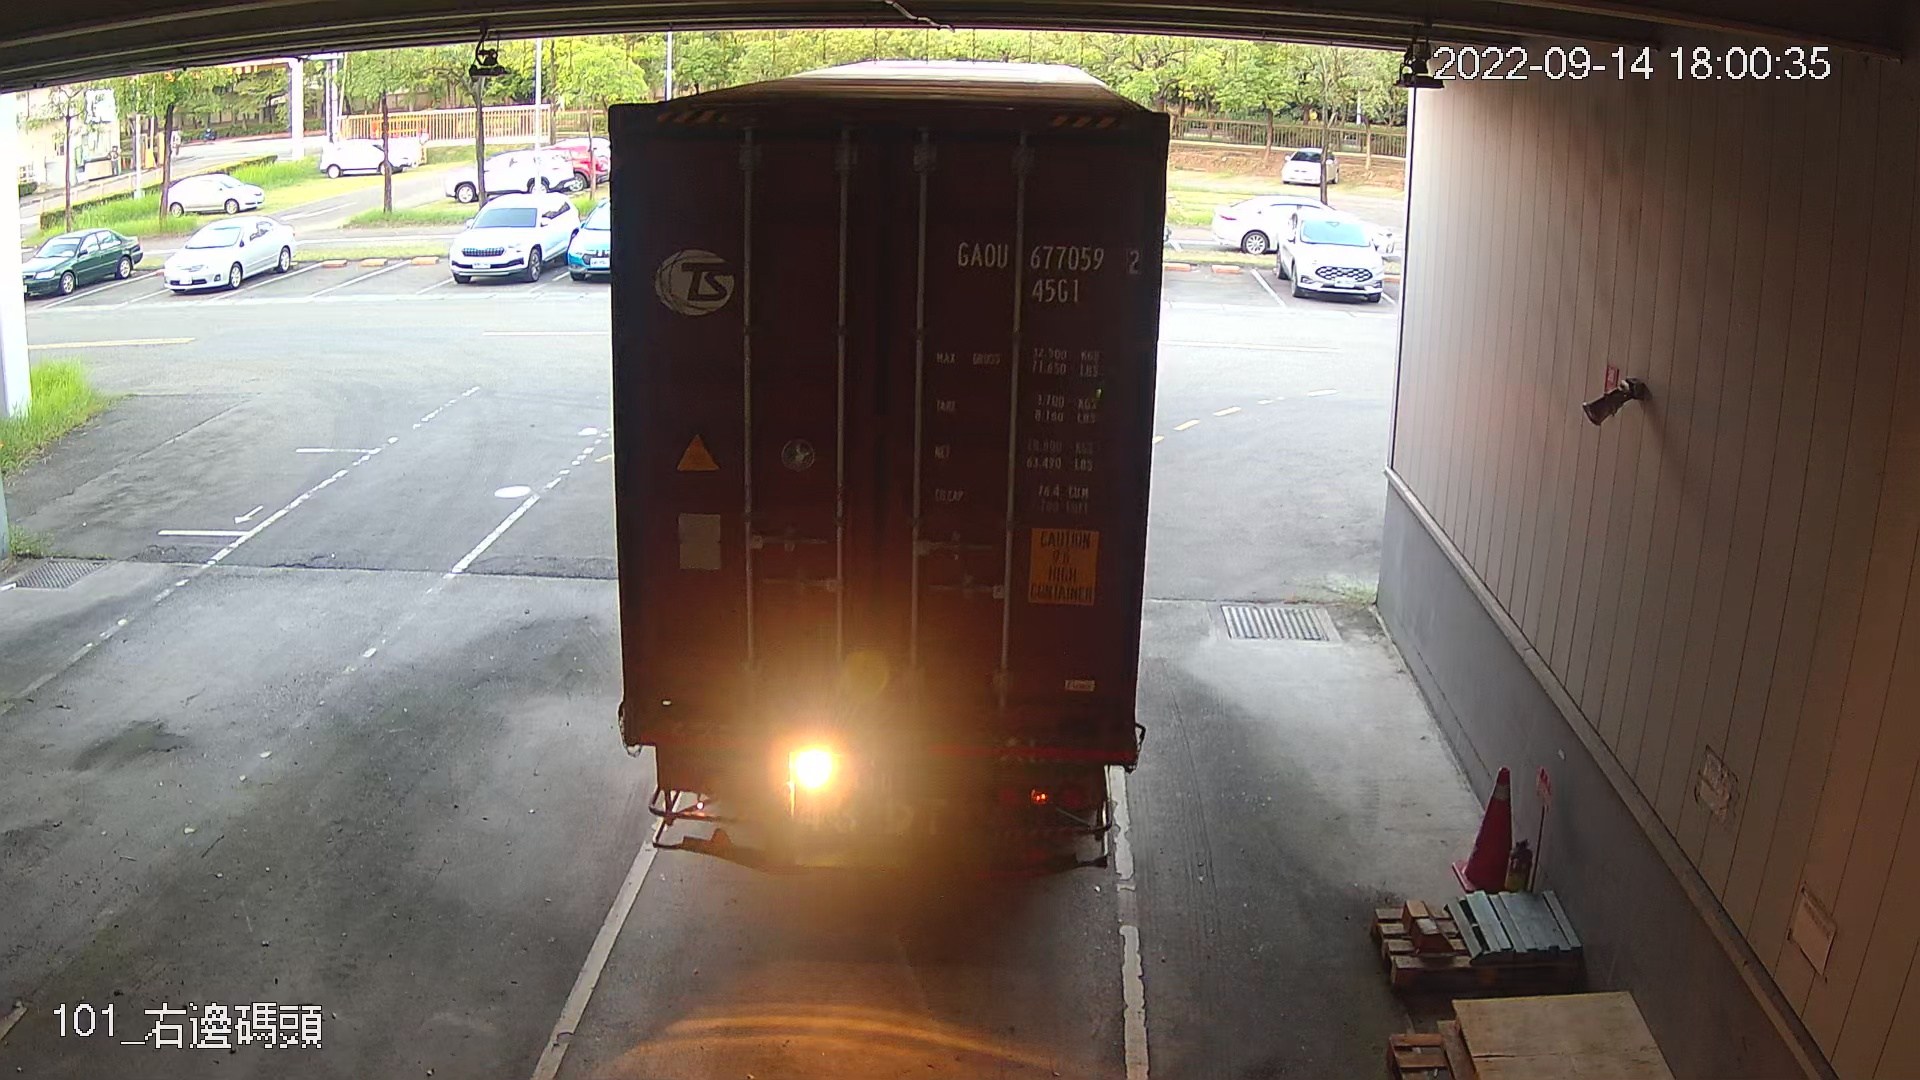container: (948, 227, 1149, 314)
